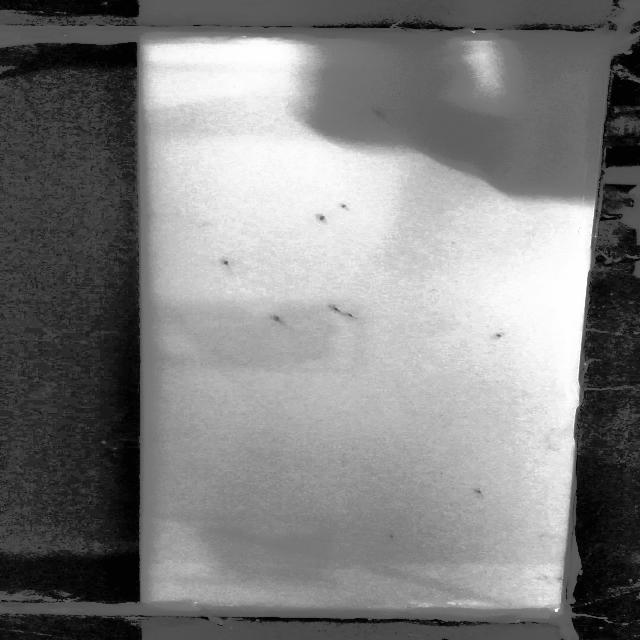shrimp: (367, 104, 400, 125), (470, 484, 492, 502), (376, 531, 406, 544), (326, 302, 348, 316), (310, 212, 330, 227), (342, 311, 366, 323), (218, 258, 245, 268), (337, 200, 353, 216), (485, 330, 509, 340), (272, 314, 290, 323)
